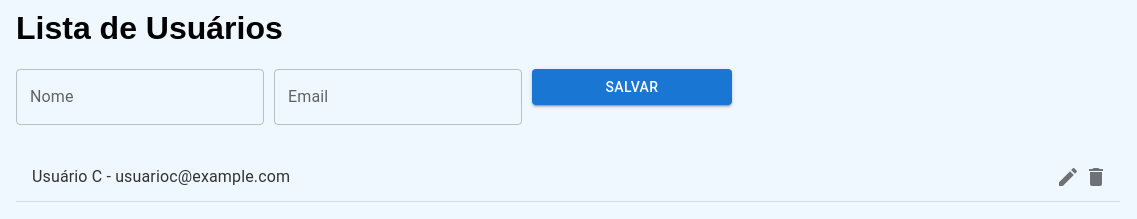
it: edits an existing user
// Edita o usuário adicionado
Click the button named "edit". click: click(1068, 177)
box: x1=1048 y1=157 x2=1088 y2=197
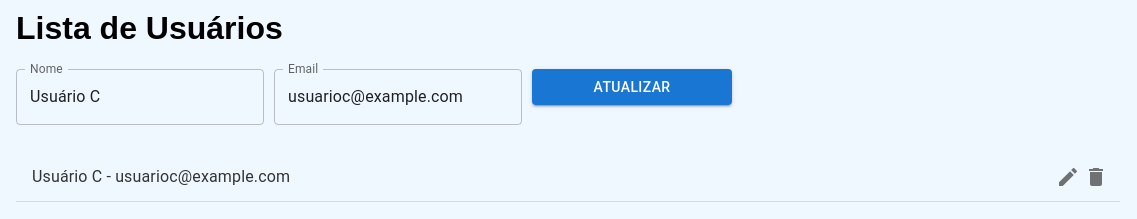
Replace the text in the field labelled "Nome" with "Usuário D". click: (140, 97)
box: x1=16 y1=69 x2=264 y2=125
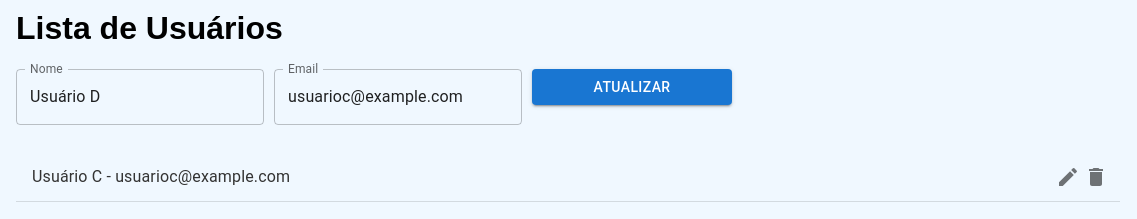
Replace the text in the field labelled "Email" with "usuariod@example.com". click: (398, 97)
box: x1=274 y1=69 x2=522 y2=125
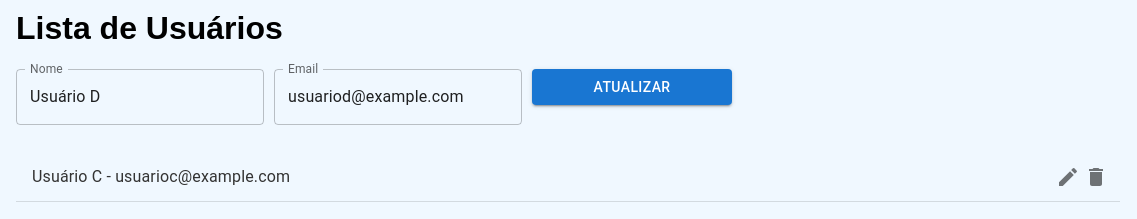
Click the button "Atualizar". click: click(632, 87)
box: x1=532 y1=69 x2=732 y2=105
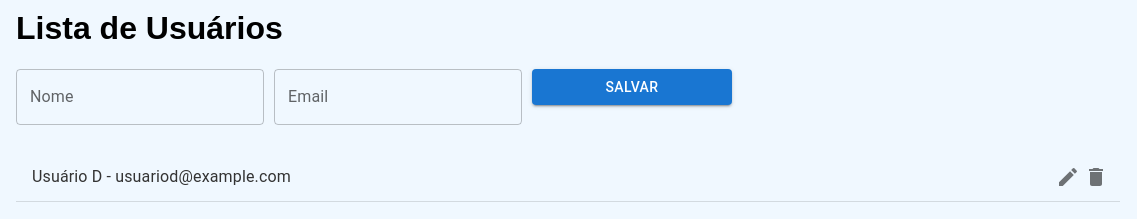
Expected: the text "Usuário D - usuariod@example.com" is shown, x1=32 y1=167 x2=291 y2=186
